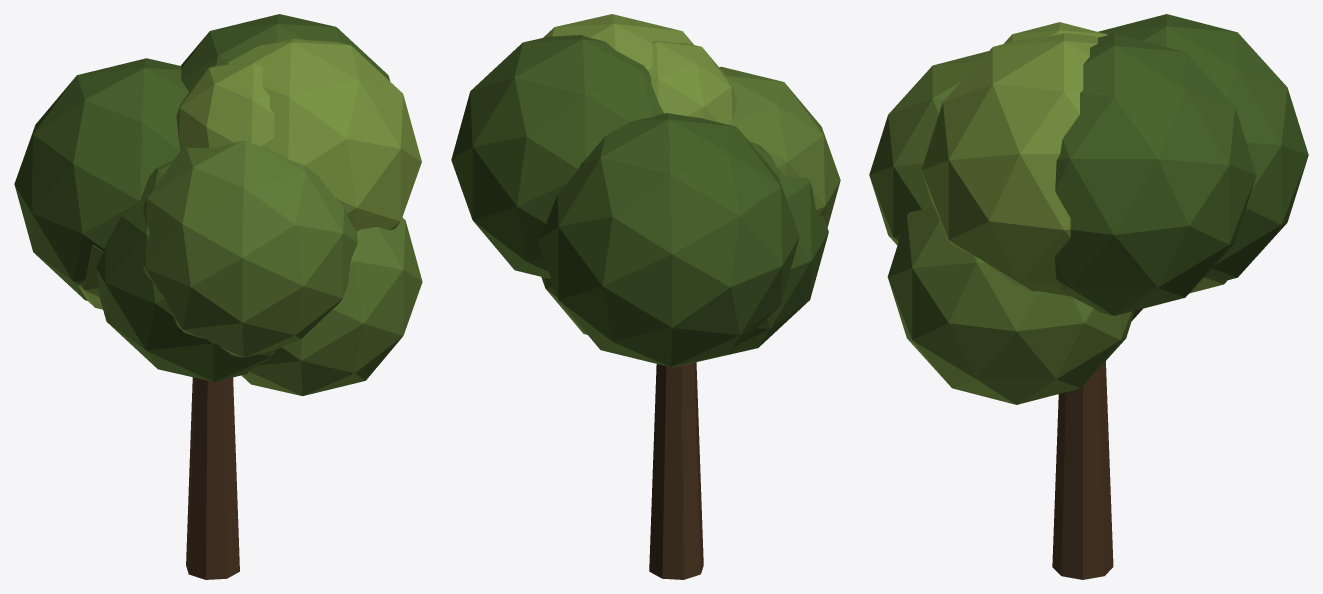
Rendered from tree.glb.
3 views of the same model, side by side, from view 1: azimuth 30°, elevation 25°; view 2: azimuth 150°, elevation 25°; view 3: azimuth 270°, elevation 25° (orthographic). The views are drawn at different scales.
Size of the model in its own units: 7.59 by 11.19 by 7.91.
